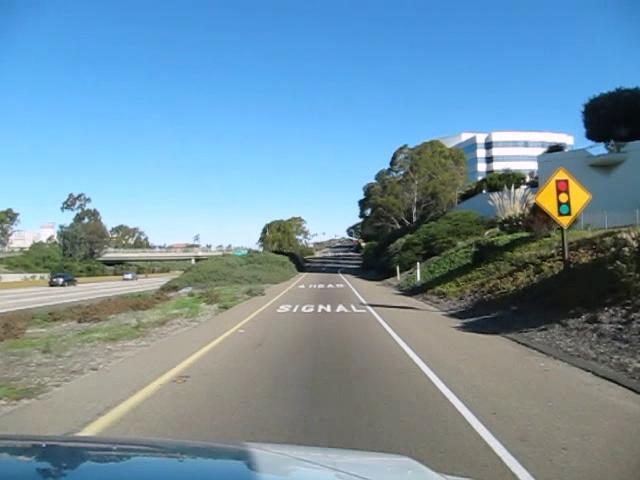signalAhead: (533, 166, 592, 228)
